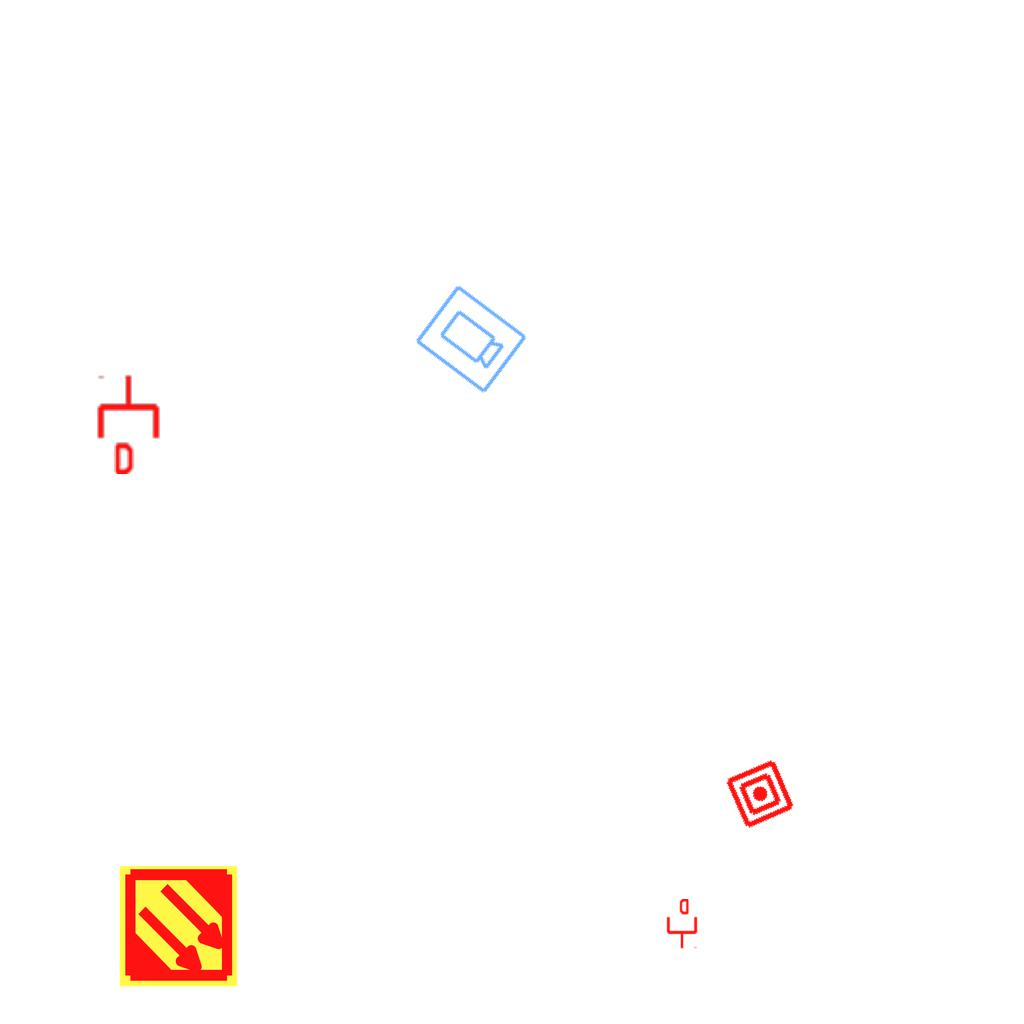ASR_Ansaugrauchmelder: (116, 864, 241, 989)
Datenanschluss_einfach: (94, 374, 163, 474), (665, 899, 699, 949)
KFO_Kamera_mit_Festobjektiv: (410, 281, 531, 398)
NAM-Nichtautomatischer_Melder: (723, 757, 797, 831)
